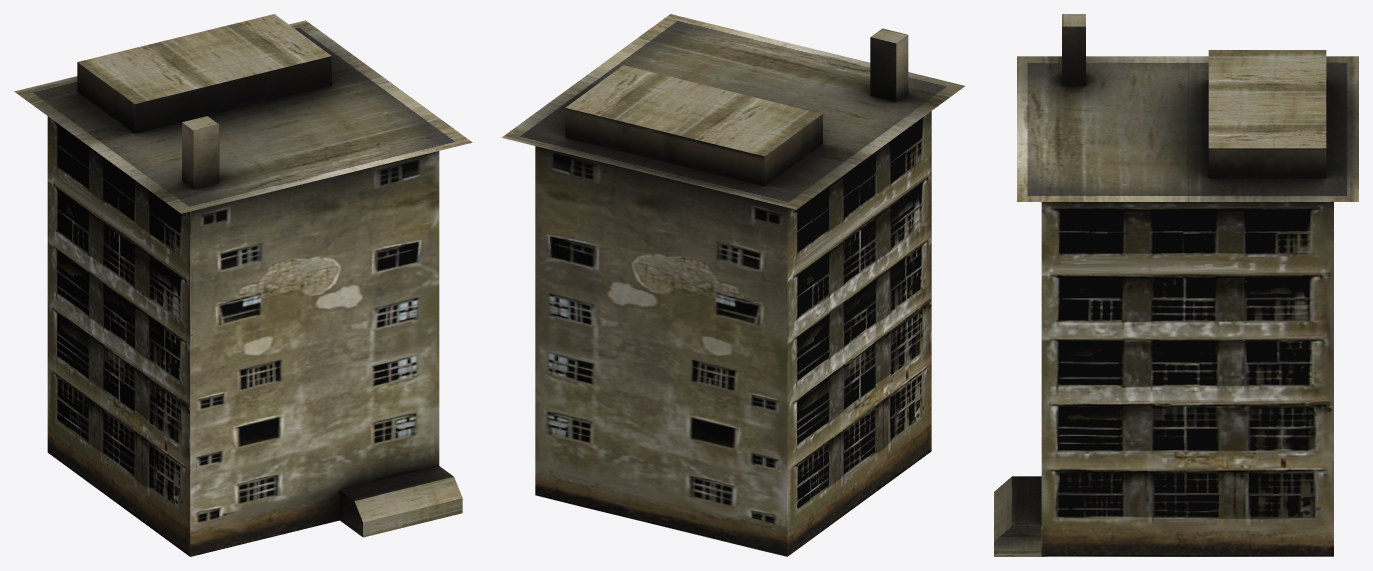
Rendered from building_1.fbx.
3 views of the same model, side by side, from view 1: azimuth 30°, elevation 25°; view 2: azimuth 150°, elevation 25°; view 3: azimuth 270°, elevation 25° (orthographic). The views are drawn at different scales.
Parts seen in each view (by area): view 1: building_1:pCube1; view 2: building_1:pCube1; view 3: building_1:pCube1.
Boxes of the visible parts, left/top/right/bottom form: building_1:pCube1: left=14, top=14, right=472, bottom=556; building_1:pCube1: left=501, top=14, right=964, bottom=556; building_1:pCube1: left=994, top=14, right=1358, bottom=556.
Size of the model in its own units: 74.95 by 102 by 79.33.
